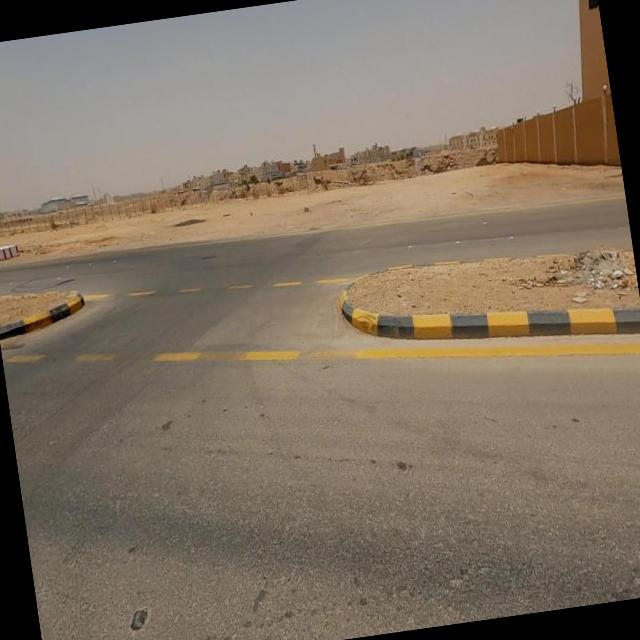debris: (511, 197, 640, 344)
